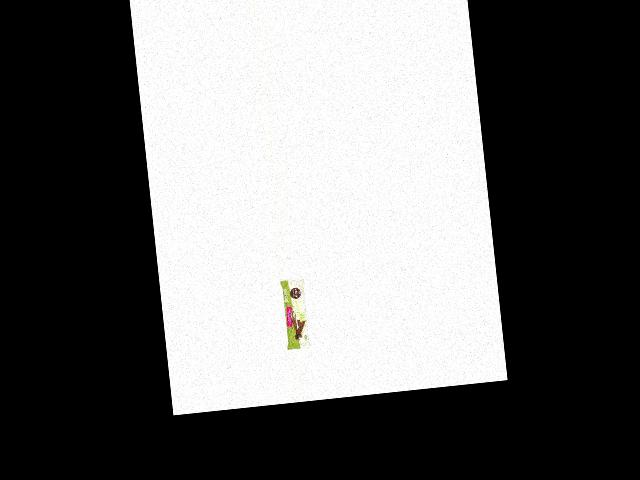chocolate: (277, 278, 313, 351)
